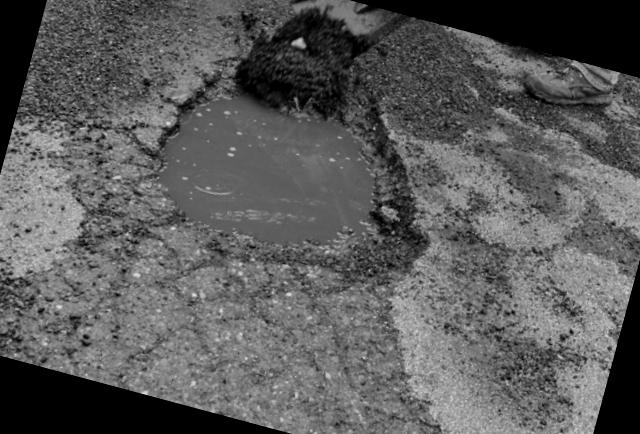Pothole: (104, 20, 473, 320)
